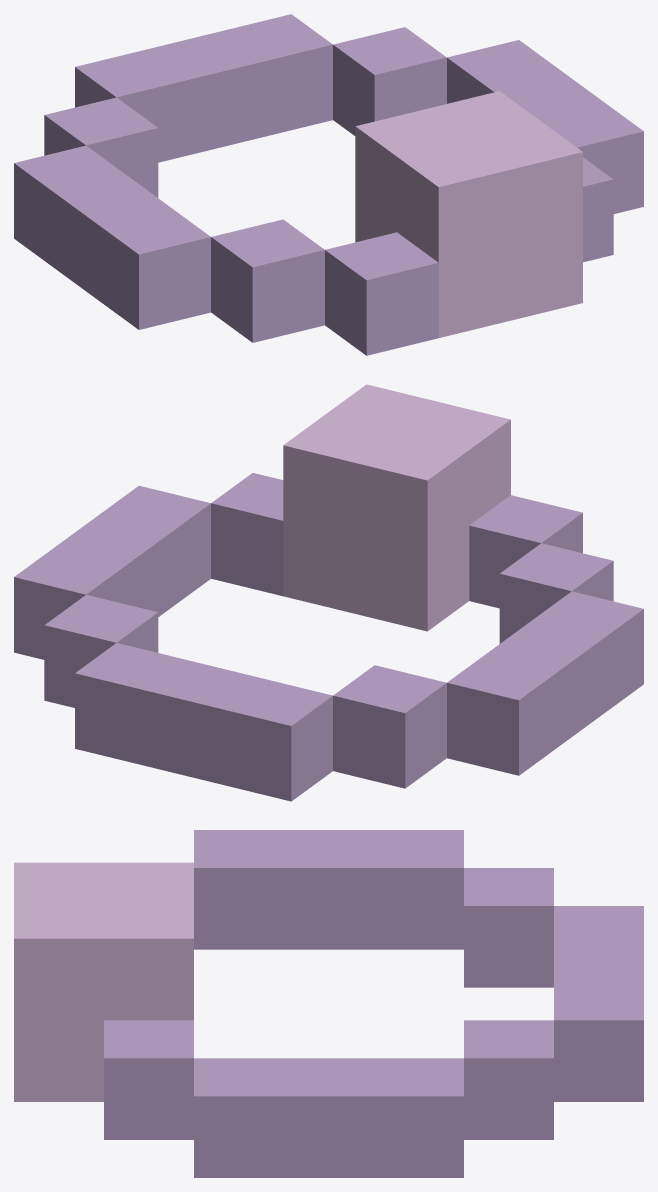
The model's file is collar_amatista_01.glb.
3 renders of one model, top to bottom at view 1: azimuth 30°, elevation 25°; view 2: azimuth 150°, elevation 25°; view 3: azimuth 270°, elevation 25°, orthographic. The views are drawn at different scales.
Parts seen in each view (by area): view 1: collar_amatista; view 2: collar_amatista; view 3: collar_amatista.
Part boxes in pixels (left/top/right/bottom): collar_amatista: left=14, top=14, right=643, bottom=355; collar_amatista: left=14, top=384, right=643, bottom=801; collar_amatista: left=14, top=830, right=643, bottom=1177.
Bounding box in the file's own units: 0.5833 × 0.1667 × 0.5833.
